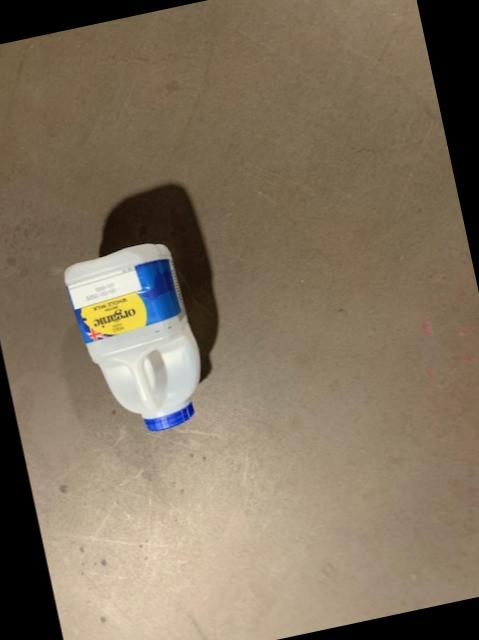plastic: (62, 243, 198, 429)
